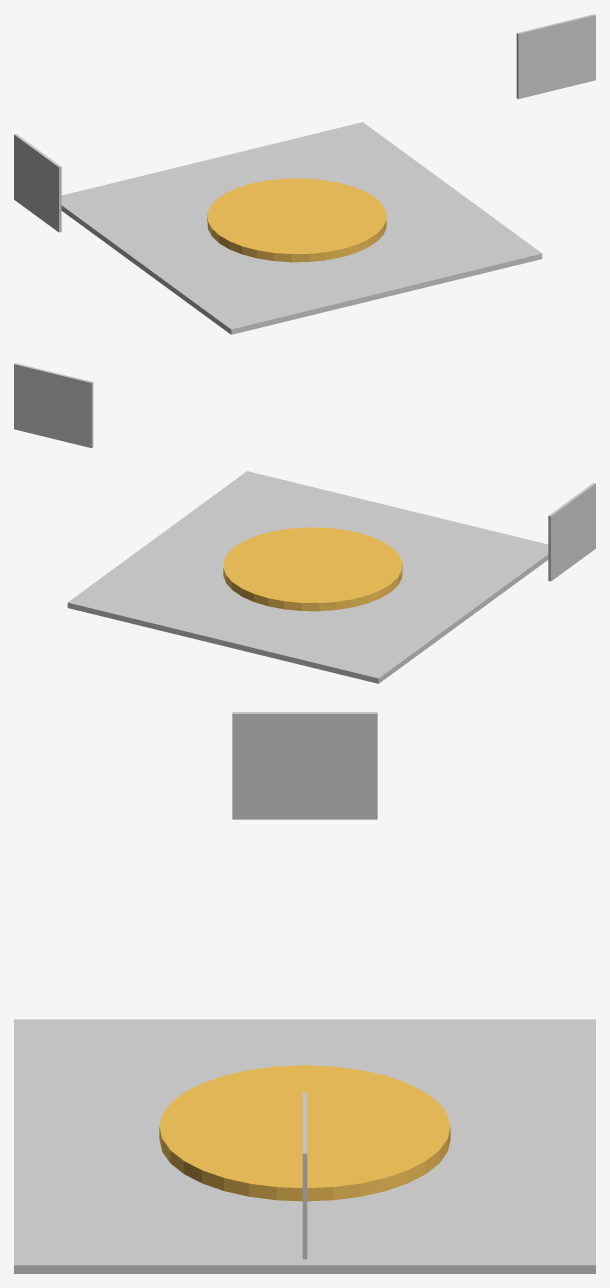
The model's file is minimalist_gallery.glb.
The picture shows the model from 3 angles, top to bottom: view 1: azimuth 30°, elevation 25°; view 2: azimuth 150°, elevation 25°; view 3: azimuth 270°, elevation 25°; orthographic projection. The views are drawn at different scales.
Visible parts, largest first — view 1: Gallery_Floor, Podium, Display_0, Display_1; view 2: Gallery_Floor, Podium, Display_2, Display_1; view 3: Gallery_Floor, Podium, Display_1, Display_0.
Part boxes in pixels (left/top/right/bottom): Gallery_Floor: left=61, top=122, right=542, bottom=334; Podium: left=207, top=178, right=386, bottom=262; Display_0: left=516, top=14, right=595, bottom=99; Display_1: left=14, top=134, right=61, bottom=232; Gallery_Floor: left=67, top=471, right=548, bottom=683; Podium: left=223, top=527, right=402, bottom=611; Display_2: left=14, top=363, right=93, bottom=448; Display_1: left=548, top=483, right=595, bottom=581; Gallery_Floor: left=14, top=1019, right=595, bottom=1273; Podium: left=159, top=1065, right=450, bottom=1201; Display_1: left=232, top=712, right=377, bottom=819; Display_0: left=302, top=1092, right=307, bottom=1259.
Bounding box in the file's own units: 10.78 × 2.65 × 6.
